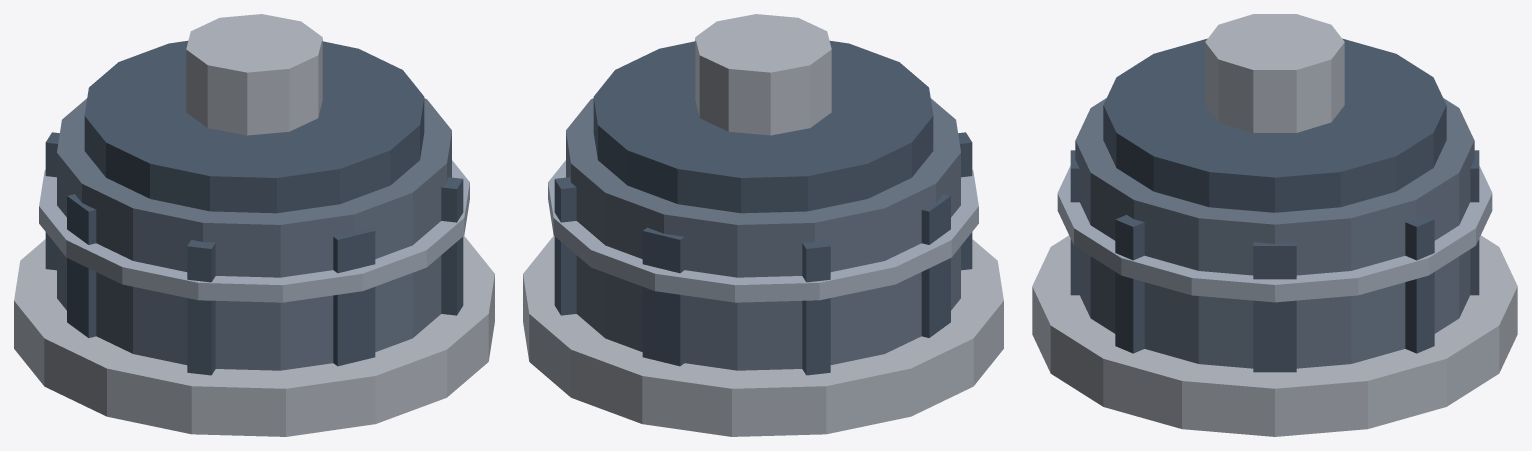
The model's file is motor-base.glb.
3 renders of one model, left to right at view 1: azimuth 30°, elevation 25°; view 2: azimuth 150°, elevation 25°; view 3: azimuth 270°, elevation 25°, orthographic.
Parts seen in each view (by area): view 1: 001_housing, 004_rotor_cap, 000_mount_base, 005_prop_shaft, 003_metallic_trim, 008_cooling_fins, 009_cooling_fins, 010_cooling_fins, 007_cooling_fins, 011_cooling_fins; view 2: 001_housing, 004_rotor_cap, 000_mount_base, 005_prop_shaft, 003_metallic_trim, 012_cooling_fins, 011_cooling_fins, 010_cooling_fins, 013_cooling_fins, 009_cooling_fins; view 3: 001_housing, 000_mount_base, 004_rotor_cap, 005_prop_shaft, 003_metallic_trim, 006_cooling_fins, 007_cooling_fins, 013_cooling_fins, 008_cooling_fins, 012_cooling_fins.
Part boxes in pixels (x1,y1,x2,y2): 001_housing: (57, 98, 451, 370); 004_rotor_cap: (84, 40, 424, 213); 000_mount_base: (14, 236, 494, 436); 005_prop_shaft: (186, 14, 322, 135); 003_metallic_trim: (39, 160, 469, 302); 008_cooling_fins: (333, 227, 375, 366); 009_cooling_fins: (187, 239, 215, 375); 010_cooling_fins: (67, 194, 96, 337); 007_cooling_fins: (441, 177, 463, 315); 011_cooling_fins: (45, 132, 59, 270); 001_housing: (566, 98, 960, 370); 004_rotor_cap: (593, 40, 933, 213); 000_mount_base: (523, 236, 1003, 436); 005_prop_shaft: (695, 14, 831, 135); 003_metallic_trim: (548, 160, 978, 302); 012_cooling_fins: (642, 227, 684, 366); 011_cooling_fins: (802, 239, 830, 375); 010_cooling_fins: (921, 194, 950, 337); 013_cooling_fins: (554, 177, 576, 315); 009_cooling_fins: (958, 132, 972, 270); 001_housing: (1075, 98, 1474, 368); 000_mount_base: (1032, 235, 1517, 436); 004_rotor_cap: (1103, 38, 1446, 212); 005_prop_shaft: (1205, 14, 1344, 132); 003_metallic_trim: (1057, 165, 1492, 302); 006_cooling_fins: (1253, 242, 1296, 372); 007_cooling_fins: (1115, 214, 1144, 353); 013_cooling_fins: (1405, 214, 1434, 353); 008_cooling_fins: (1070, 150, 1079, 295); 012_cooling_fins: (1470, 150, 1479, 295).
Size of the model in its own units: 0.73 by 0.485 by 0.73.
